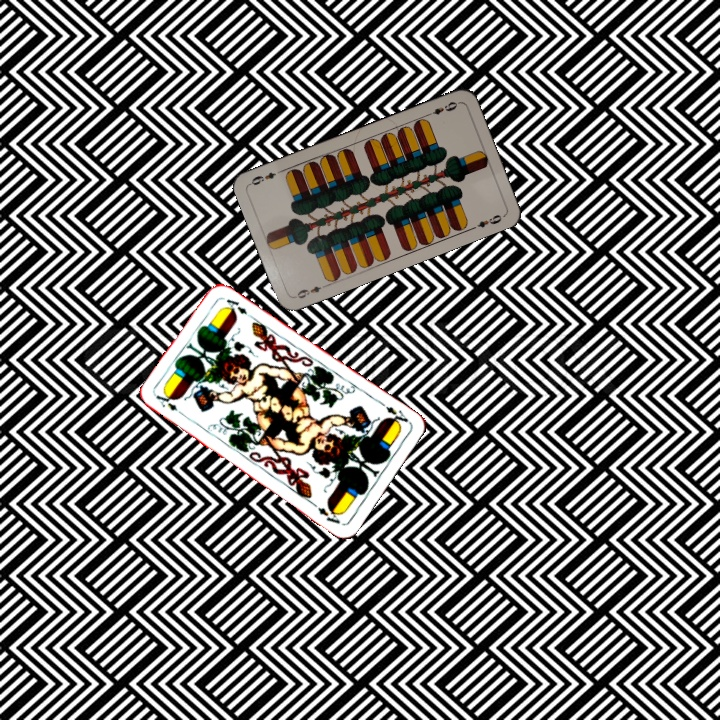E9: (422, 97, 460, 119), (291, 280, 330, 301)
EA: (376, 397, 411, 429), (152, 391, 188, 419)
